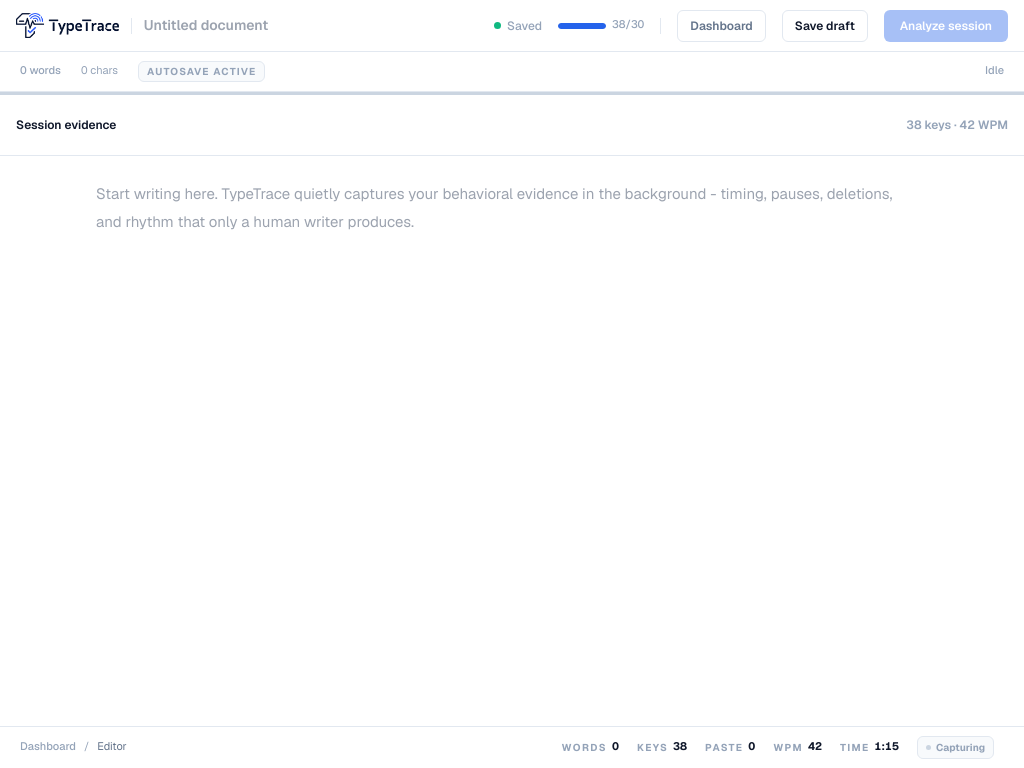
EditorPage high-yield workflow coverage › loads enrolled courses and opens the course-linking workflow once evidence is ready
The image size is (1024, 768).
Type "Evidence essay" into the field named "Document title" at (239, 26), box [144, 15, 335, 36]
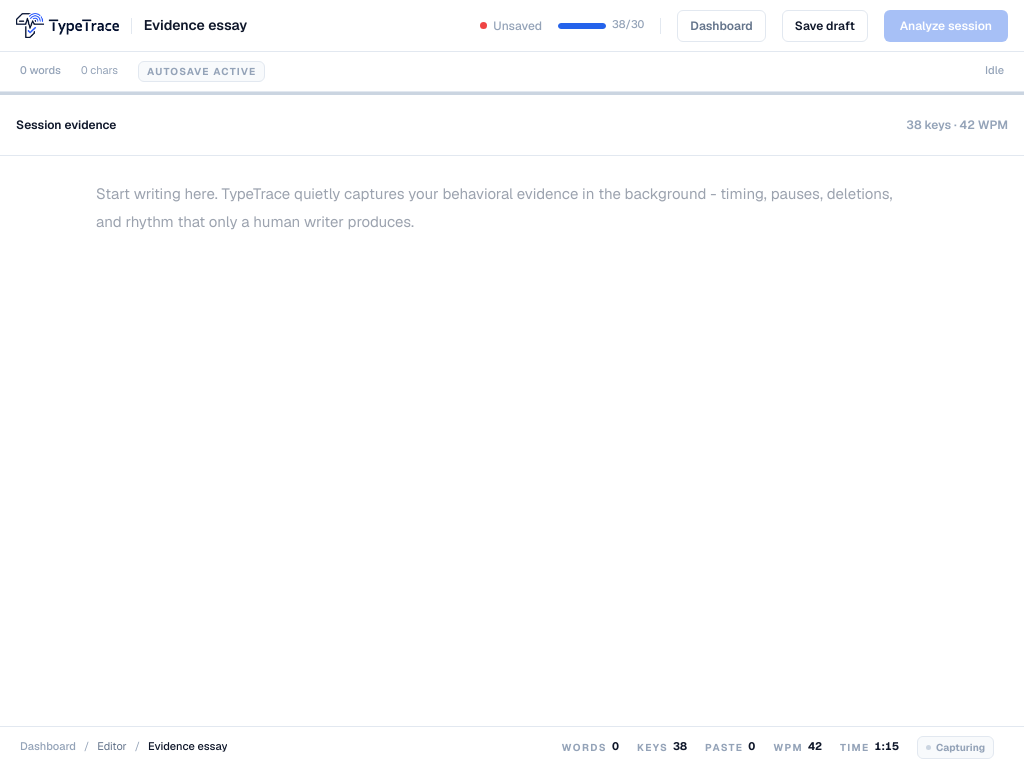
Replace the text in the text box named "Writing workspace" with "A sufficiently captured writing session." at (507, 420), box [96, 180, 918, 660]
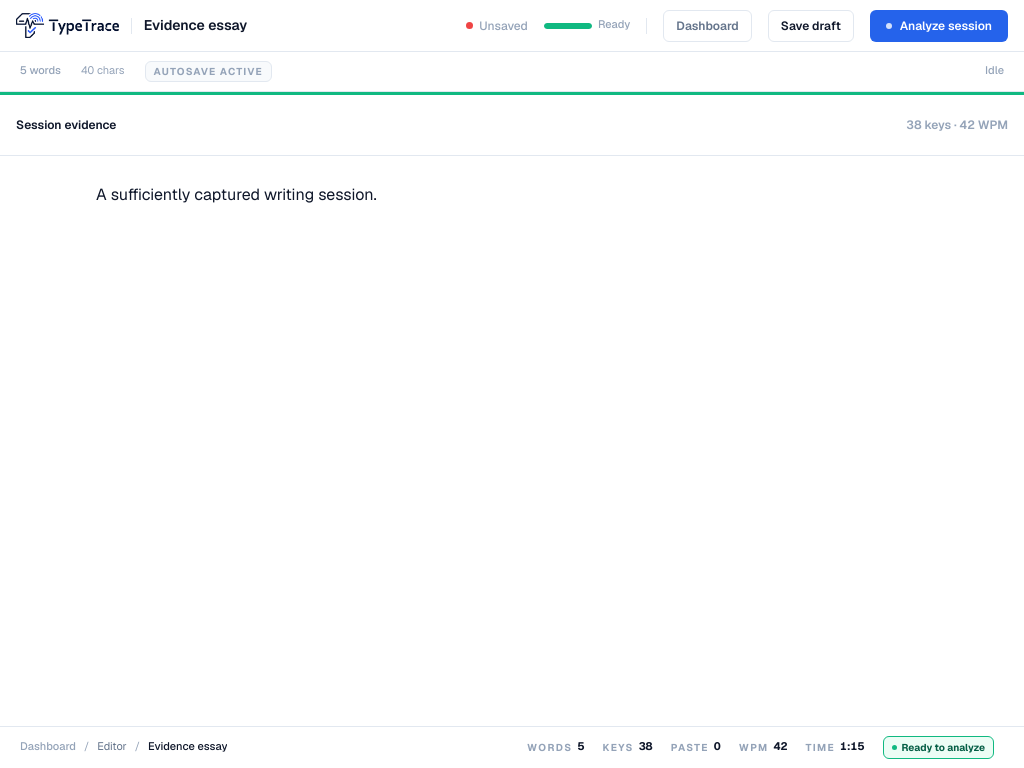
Check: the button "Analyze session" is enabled
Click the button "Analyze session" at (939, 26), box [870, 10, 1008, 42]
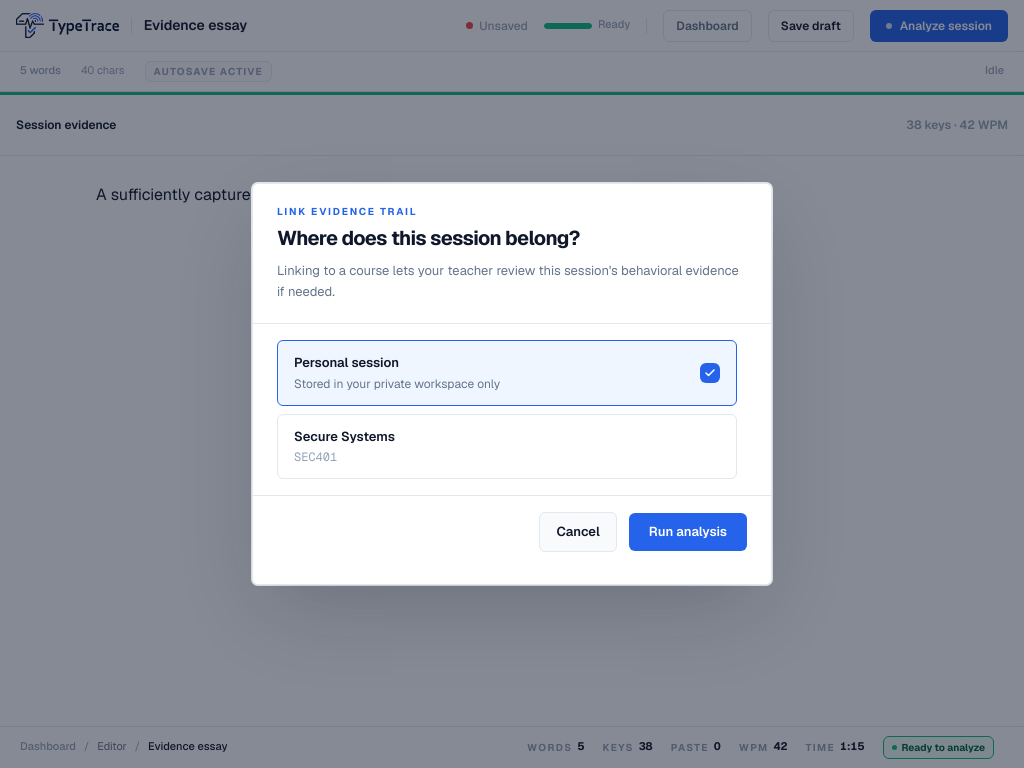
Check: the heading "Where does this session belong?" is shown, box [277, 226, 580, 252]
Check: the button "Secure Systems SEC401" is shown, box [277, 414, 737, 479]
